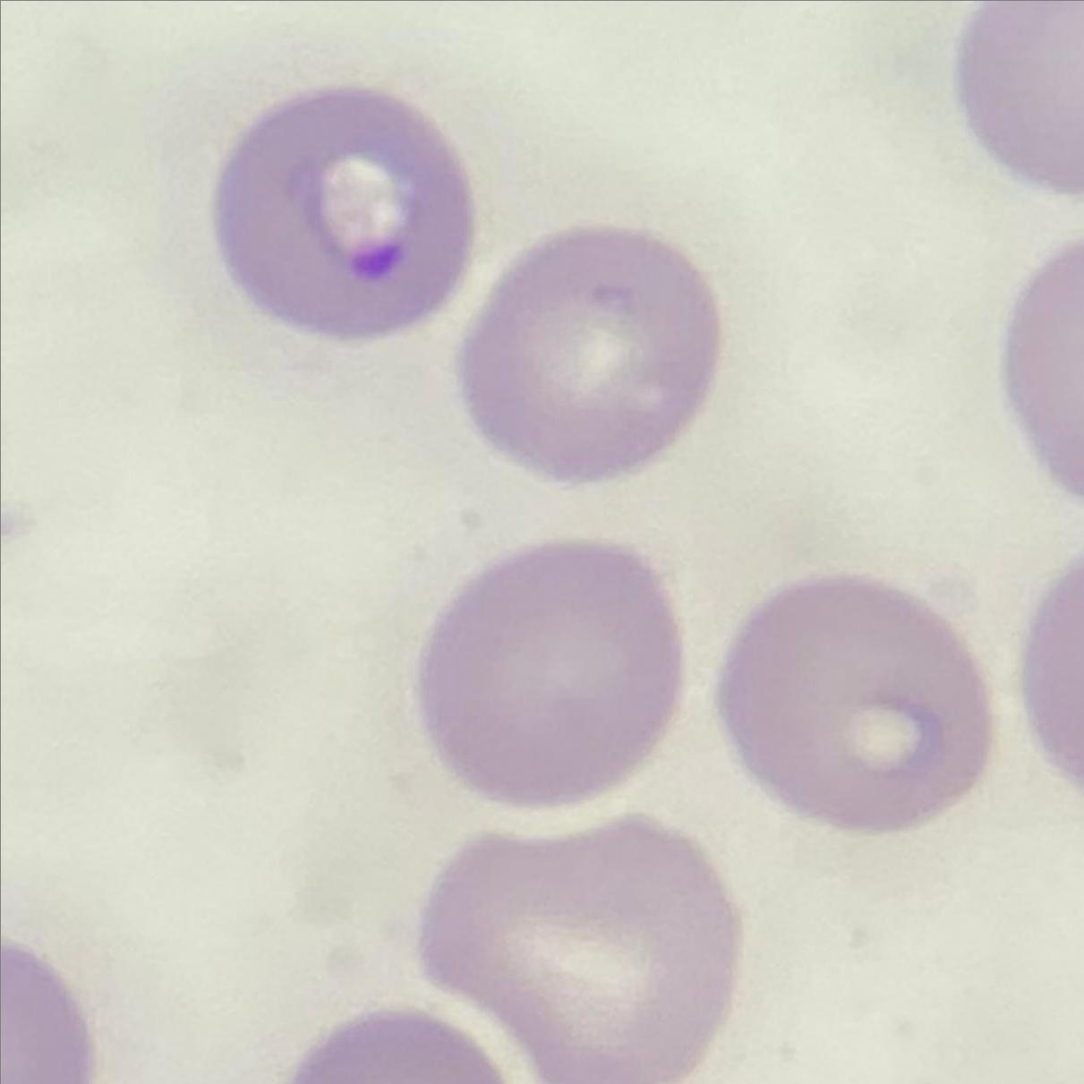Infected: (213, 83, 478, 336)
Uninfected: (421, 813, 738, 1084), (425, 538, 682, 812), (716, 574, 985, 835), (463, 224, 725, 490)
